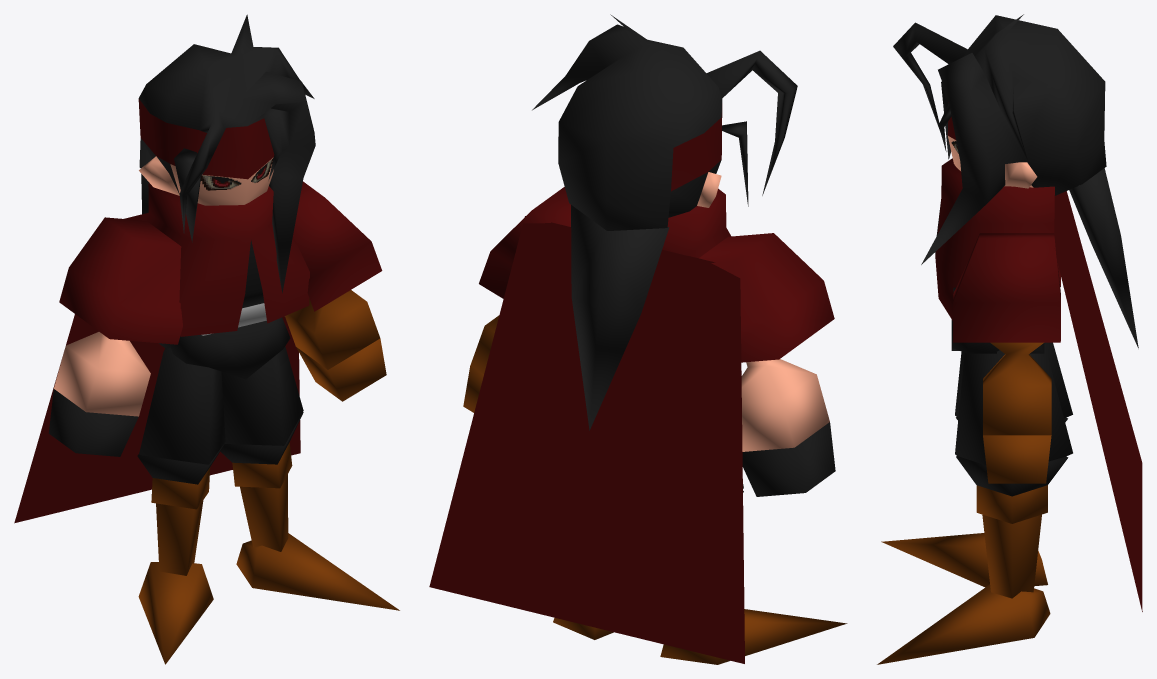
The model's file is vincent.glb.
3 views of the same model, side by side, from view 1: azimuth 30°, elevation 25°; view 2: azimuth 150°, elevation 25°; view 3: azimuth 270°, elevation 25° (orthographic). The views are drawn at different scales.
Visible parts, largest first — view 1: 7_hair1_0_0_0, 7_capetop_0_0_0_7_capetop_0_0_0.001, 7_capearmR_0_0_0, 7_capeback_0_0_0, 7_legR1_0_0_0, 7_capearmL_0_0_0, 7_armR2_0_0_0, 7_legL1_0_0_0, 7_bootL2_0_0_0, 7_headband_0_0_0, 7_armL2_0_0_0, 7_bootR2_0_0_0 (+10 smaller); view 2: 7_capeback_0_0_0, 7_hair1_0_0_0, 7_hair2_0_0_0, 7_capearmR_0_0_0, 7_armR2_0_0_0, 7_gloveR_0_0_0, 7_bootR2_0_0_0, 7_capetop_0_0_0_7_capetop_0_0_0.001, 7_capearmL_0_0_0, 7_headband_0_0_0, 7_armL2_0_0_0; view 3: 7_hair1_0_0_0, 7_capeback_0_0_0, 7_capearmL_0_0_0, 7_capetop_0_0_0_7_capetop_0_0_0.001, 7_bootL2_0_0_0, 7_bootL1_0_0_0, 7_armL2_0_0_0, 7_legL1_0_0_0, 7_hair2_0_0_0, 7_bootR2_0_0_0, 7_handL_0_0_0, 7_legL2_0_0_0 (+3 smaller).
Part boxes in pixels (<box>): 7_hair1_0_0_0: <box>138,14,315,293</box>; 7_capetop_0_0_0_7_capetop_0_0_0.001: <box>146,183,309,336</box>; 7_capearmR_0_0_0: <box>59,217,182,344</box>; 7_capeback_0_0_0: <box>14,213,300,523</box>; 7_legR1_0_0_0: <box>139,347,225,464</box>; 7_capearmL_0_0_0: <box>293,181,382,311</box>; 7_armR2_0_0_0: <box>54,332,150,416</box>; 7_legL1_0_0_0: <box>221,346,303,445</box>; 7_bootL2_0_0_0: <box>236,533,399,610</box>; 7_headband_0_0_0: <box>138,99,274,179</box>; 7_armL2_0_0_0: <box>285,290,379,369</box>; 7_bootR2_0_0_0: <box>138,562,213,664</box>; 7_capeback_0_0_0: <box>429,216,744,663</box>; 7_hair1_0_0_0: <box>532,14,797,230</box>; 7_hair2_0_0_0: <box>571,205,669,430</box>; 7_capearmR_0_0_0: <box>699,233,834,362</box>; 7_armR2_0_0_0: <box>741,359,829,451</box>; 7_gloveR_0_0_0: <box>742,422,835,496</box>; 7_bootR2_0_0_0: <box>660,609,847,664</box>; 7_capetop_0_0_0_7_capetop_0_0_0.001: <box>662,188,731,258</box>; 7_capearmL_0_0_0: <box>479,187,570,298</box>; 7_headband_0_0_0: <box>671,103,722,191</box>; 7_armL2_0_0_0: <box>470,315,499,373</box>; 7_hair1_0_0_0: <box>893,14,1106,264</box>; 7_capeback_0_0_0: <box>1054,191,1142,611</box>; 7_capearmL_0_0_0: <box>953,233,1060,342</box>; 7_capetop_0_0_0_7_capetop_0_0_0.001: <box>935,158,1060,320</box>; 7_bootL2_0_0_0: <box>877,584,1050,664</box>; 7_bootL1_0_0_0: <box>976,485,1047,598</box>; 7_armL2_0_0_0: <box>983,342,1051,435</box>; 7_legL1_0_0_0: <box>955,344,1072,465</box>; 7_hair2_0_0_0: <box>1069,168,1138,348</box>; 7_bootR2_0_0_0: <box>881,533,1047,587</box>; 7_handL_0_0_0: <box>983,435,1051,483</box>; 7_legL2_0_0_0: <box>956,456,1068,496</box>.
Bounding box in the file's own units: 0.9494 × 1.65 × 0.657.
Materials: 28 (28 with a texture image).
